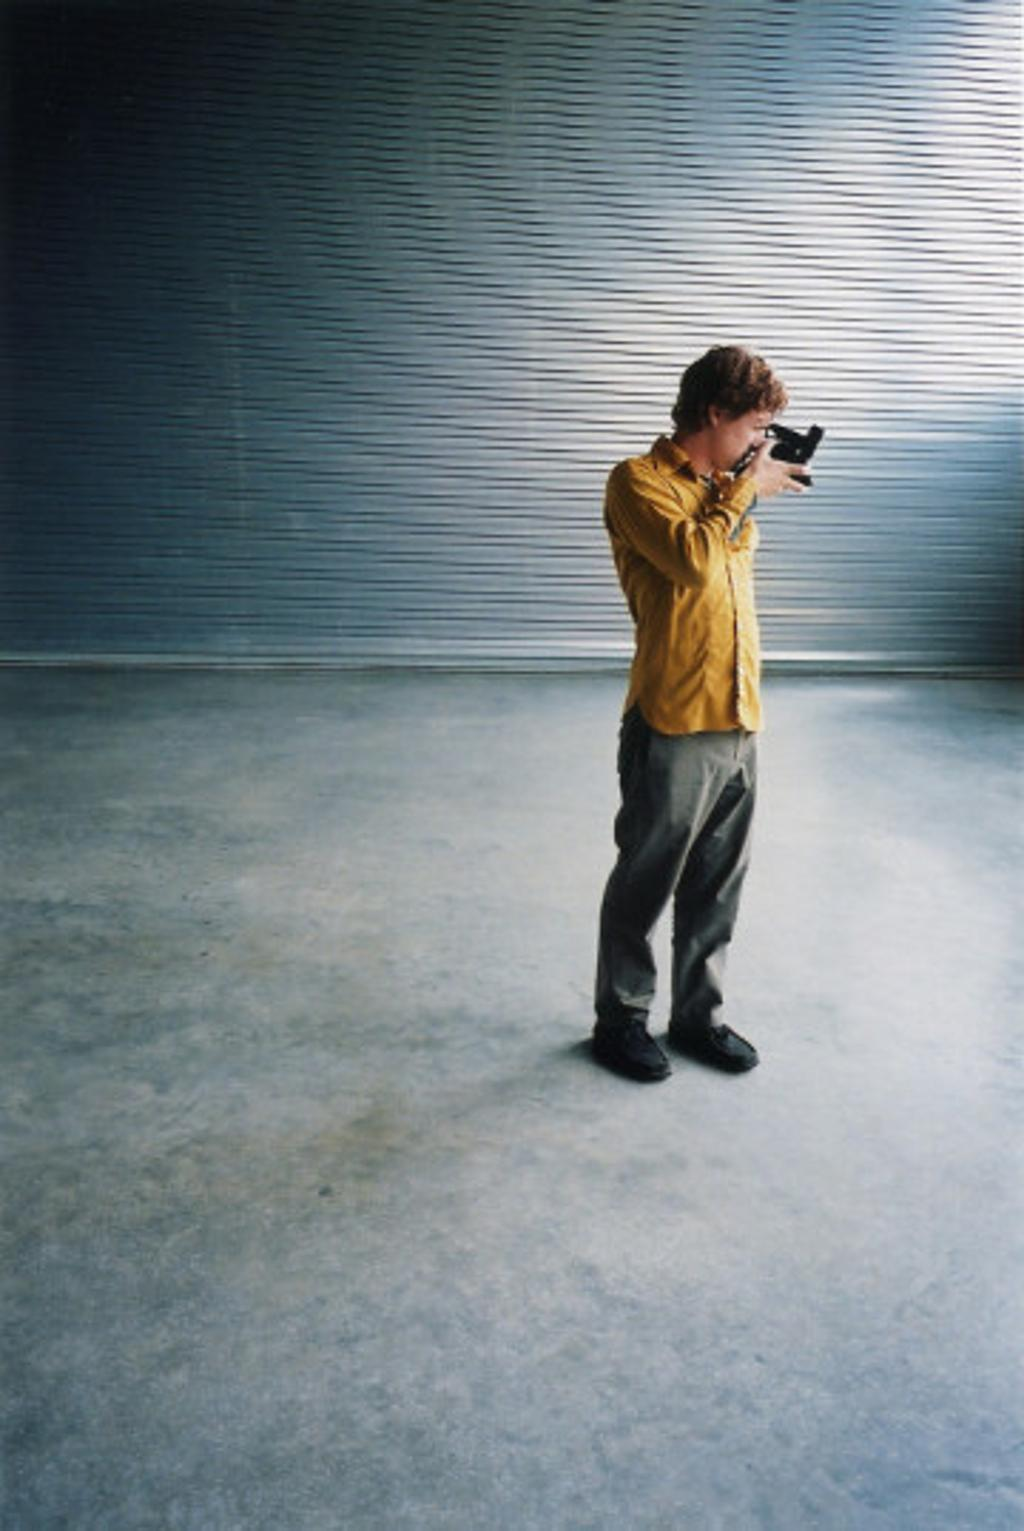face: (715, 398, 775, 488)
